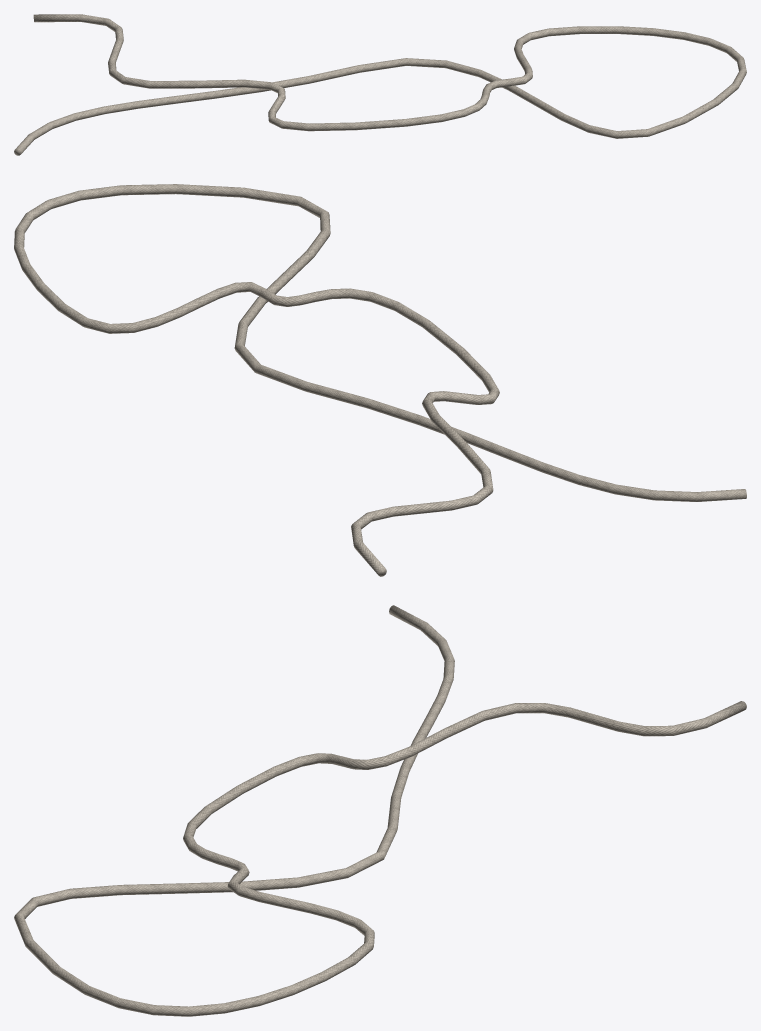
Rendered from rope.fbx.
The picture shows the model from 3 angles, top to bottom: view 1: azimuth 30°, elevation 25°; view 2: azimuth 150°, elevation 25°; view 3: azimuth 270°, elevation 25°; orthographic projection. The views are drawn at different scales.
Visible parts, largest first — view 1: BezierCurve.001; view 2: BezierCurve.001; view 3: BezierCurve.001.
Boxes of the visible parts, x1,y1,x2,y2 form: BezierCurve.001: (14,14,746,155); BezierCurve.001: (14,184,746,576); BezierCurve.001: (14,605,746,1016).
Size of the model in its own units: 375 by 9.91 by 283.
